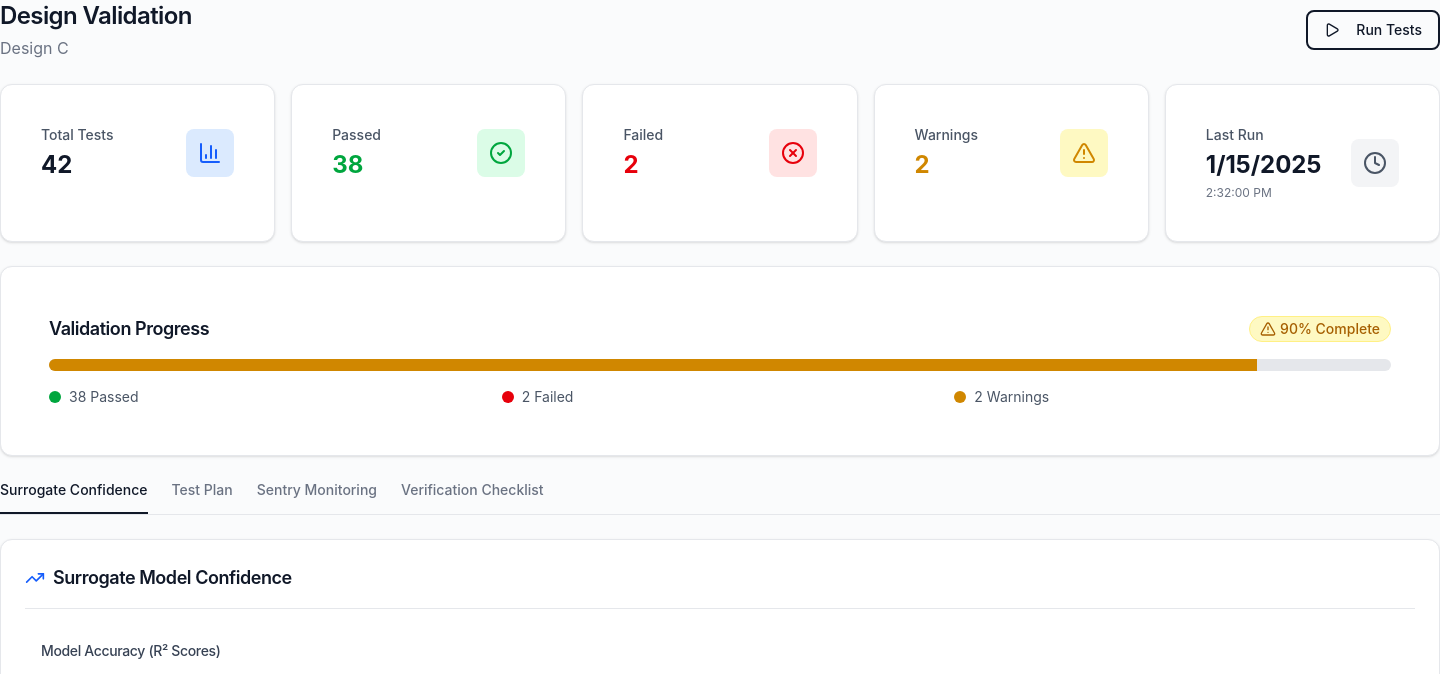
Test: ValidationScreen Component › run tests Button › should show loading state when tests are running
Click the button "Run Tests".
click(1373, 30)  # box [1306, 10, 1439, 50]
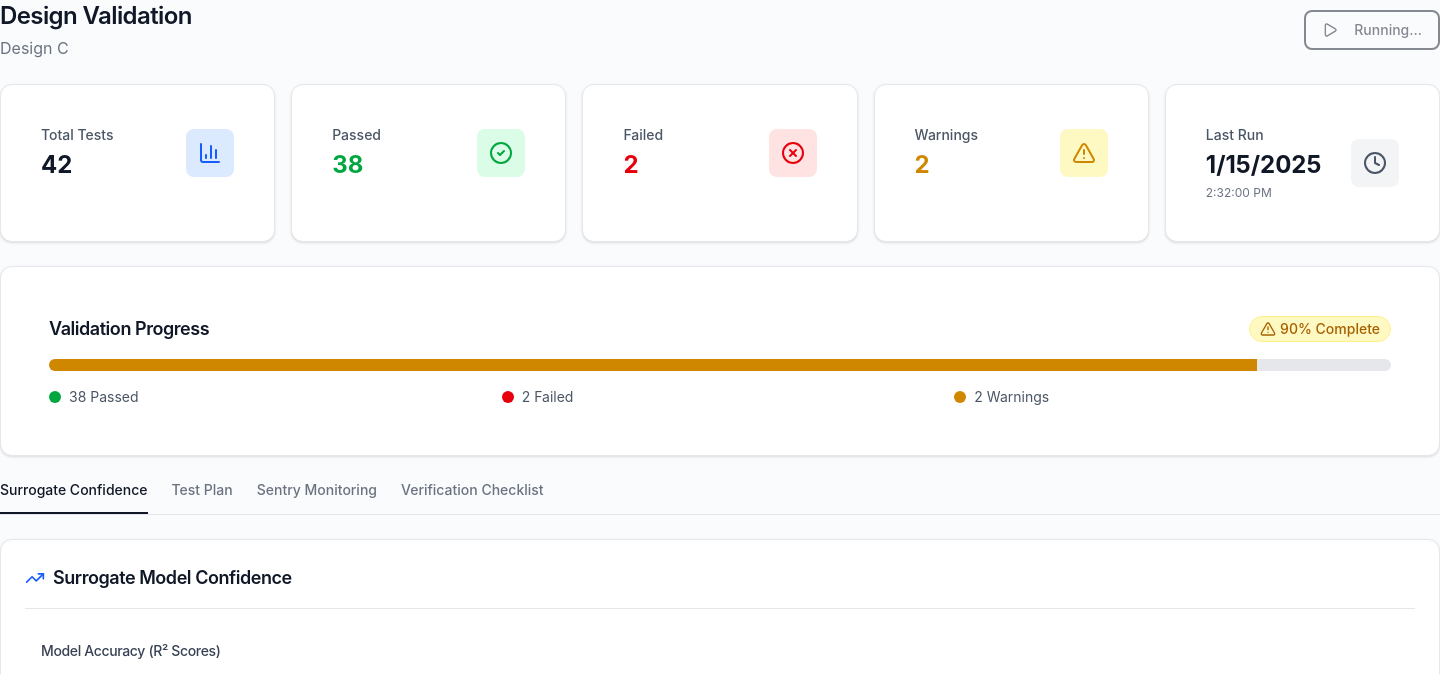
Now the button "Running..." is disabled, box [1304, 10, 1439, 50]
